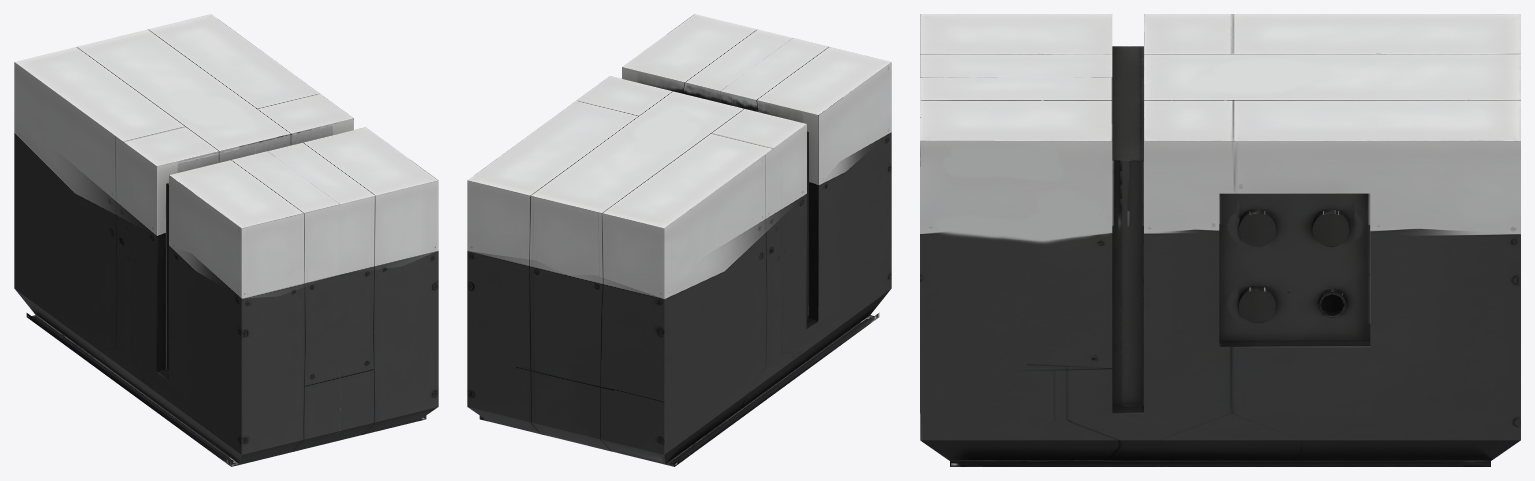
Rendered from Generator.fbx.
3 views of the same model, side by side, from view 1: azimuth 30°, elevation 25°; view 2: azimuth 150°, elevation 25°; view 3: azimuth 270°, elevation 25° (orthographic). The views are drawn at different scales.
Visible parts, largest first — view 1: Mesh_0; view 2: Mesh_0; view 3: Mesh_0.
Part boxes in pixels (left/top/right/bottom): Mesh_0: left=14, top=14, right=438, bottom=466; Mesh_0: left=467, top=14, right=891, bottom=466; Mesh_0: left=920, top=14, right=1520, bottom=466.
Bounding box in the file's own units: 100 × 120 × 200.
Materials: 1 (1 with a texture image).
